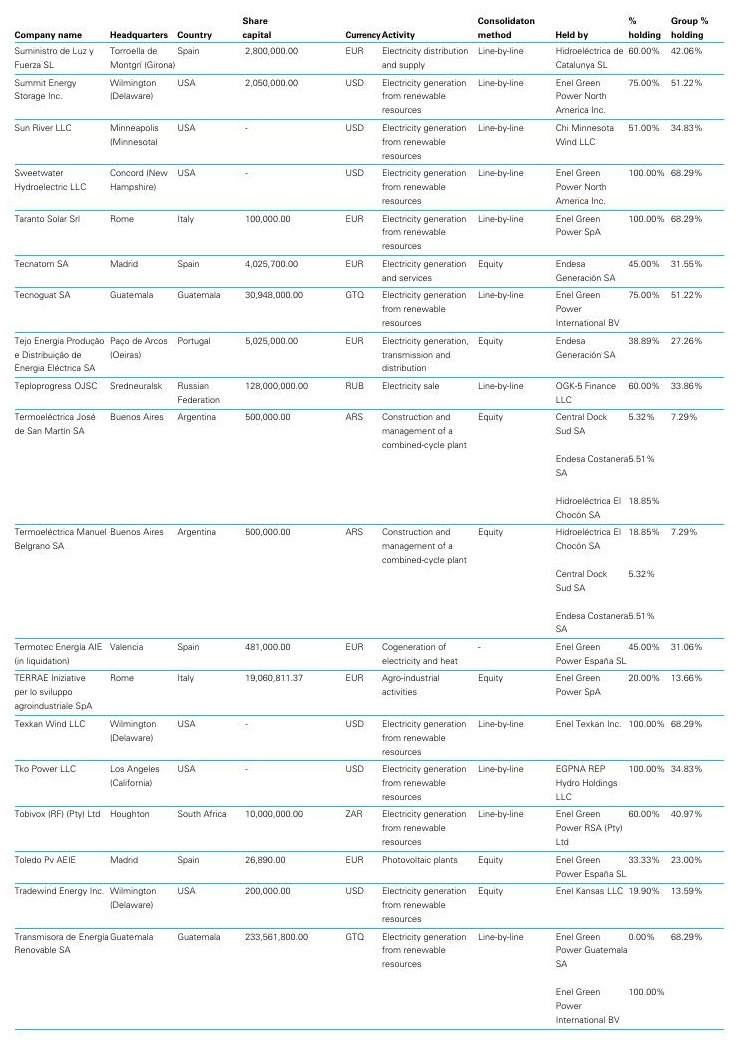table: (0, 0, 742, 1040)
